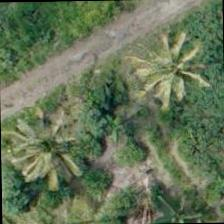Kelapa_Sawit: (5, 97, 97, 189), (128, 21, 220, 113)
